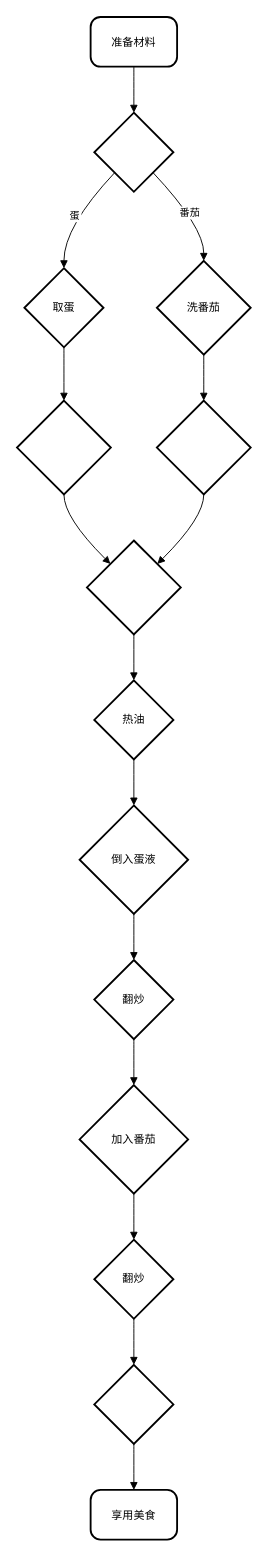
Image size: 267x1556. Some labels were removed from this diagram. Each missing label, with the centre of its shape:
买菜: the point at 133,151
出锅: the point at 133,1403
切番茄: the point at 203,447
加调料: the point at 133,587
打散蛋: the point at 63,447
